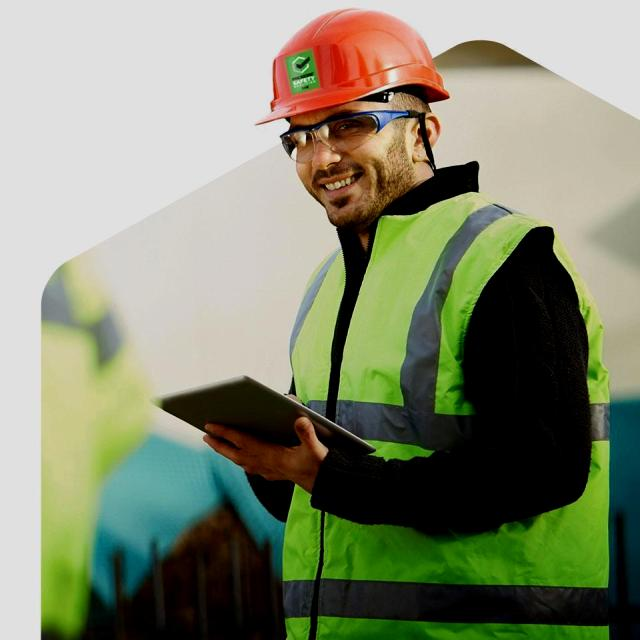face_nomask: (275, 91, 437, 224)
glasses: (276, 105, 392, 164)
hand_noglove: (199, 412, 334, 502)
head_helmet: (249, 6, 456, 117)
person: (209, 1, 624, 636)
vest: (262, 198, 583, 624)
